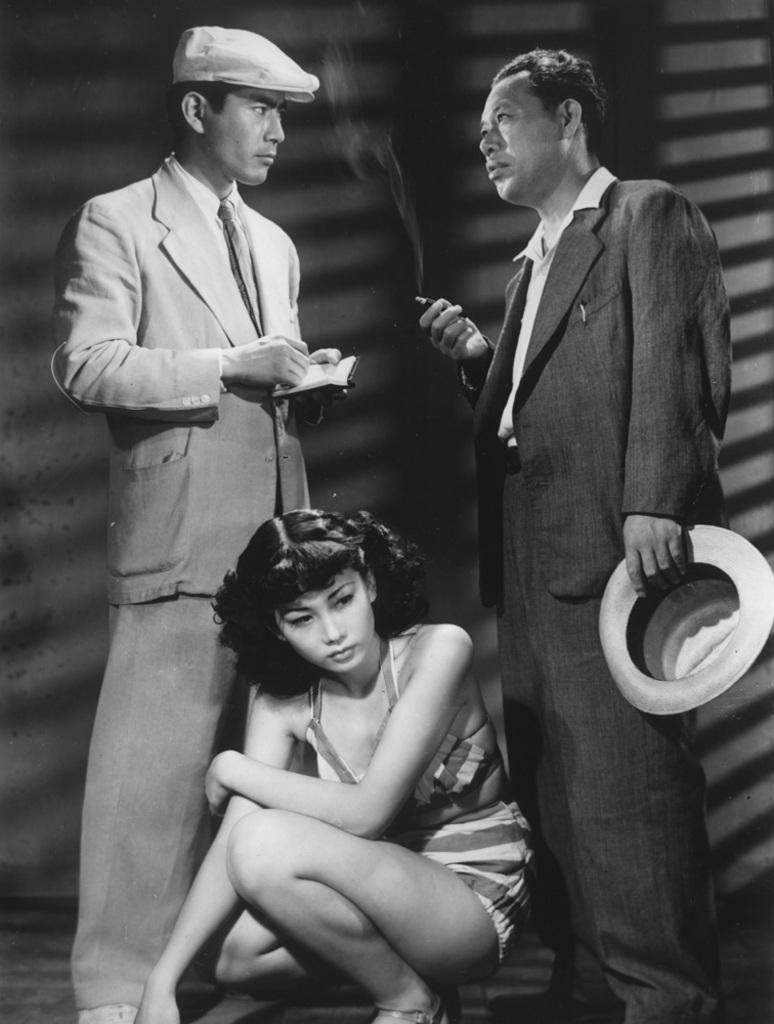Hat: (597, 520, 773, 718)
